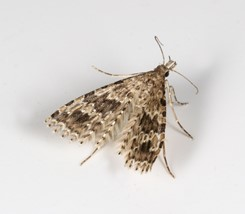Alucitidae: (45, 35, 209, 181)
moth: (43, 33, 207, 179)
